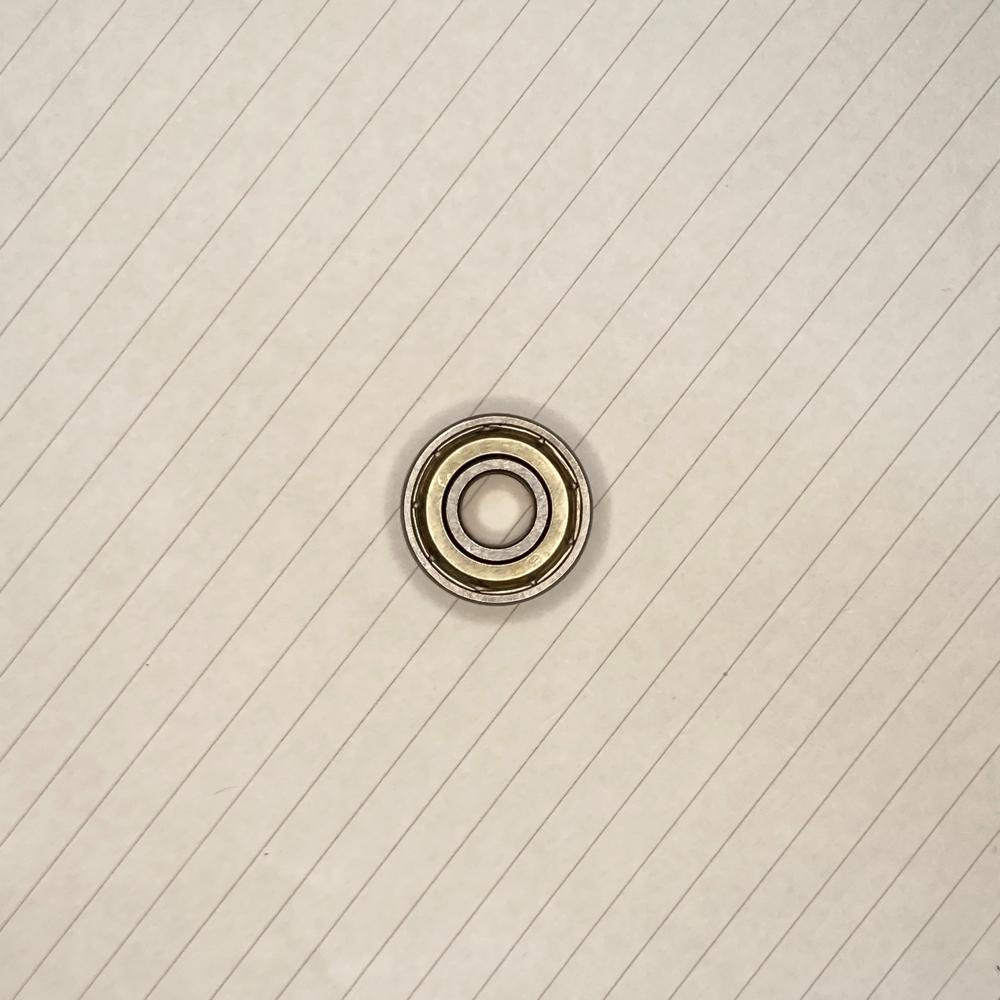ball_bearing: (398, 411, 596, 610)
